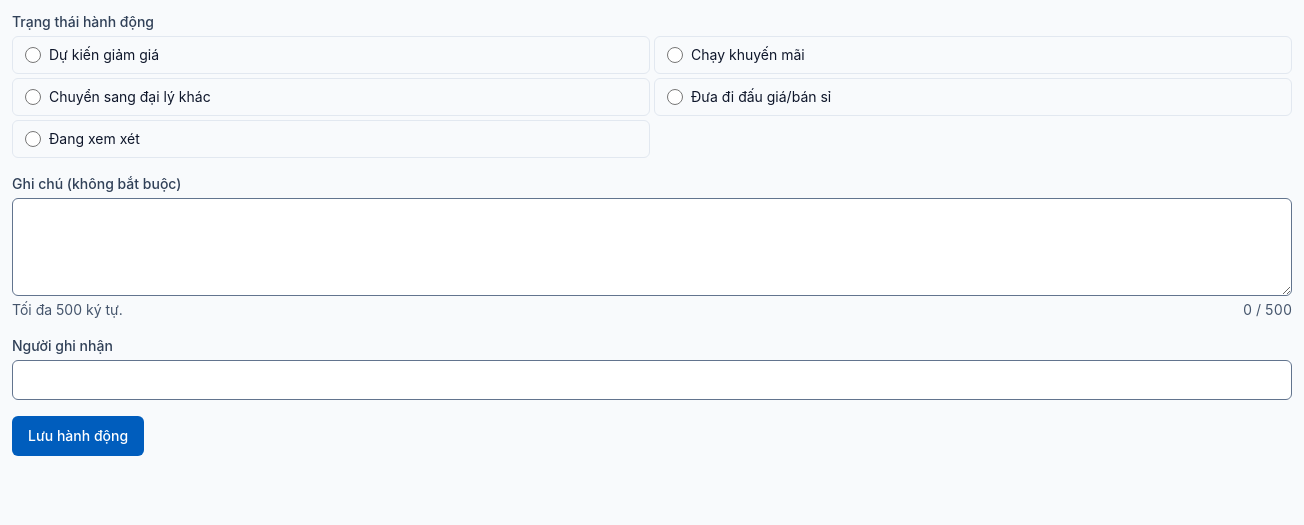
Test: LogActionForm (T-031) › shows the Vietnamese messages, never the contract English ones (BR-19)
Expected: the element "Trạng thái hành động" is shown, [12,12,1292,158]
Click the button "Lưu hành động" at (78,436), box [12,416,144,456]
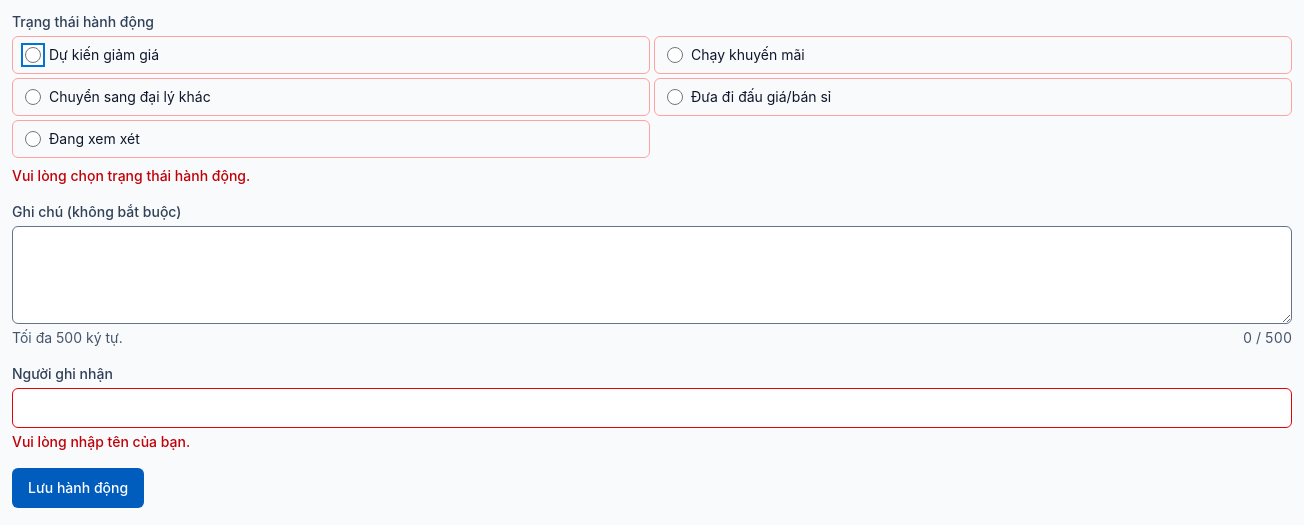
Now the text "Vui lòng chọn trạng thái hành động." is shown, box [12,167,250,184]
Now the text "Vui lòng nhập tên của bạn." is shown, box [12,433,190,450]
